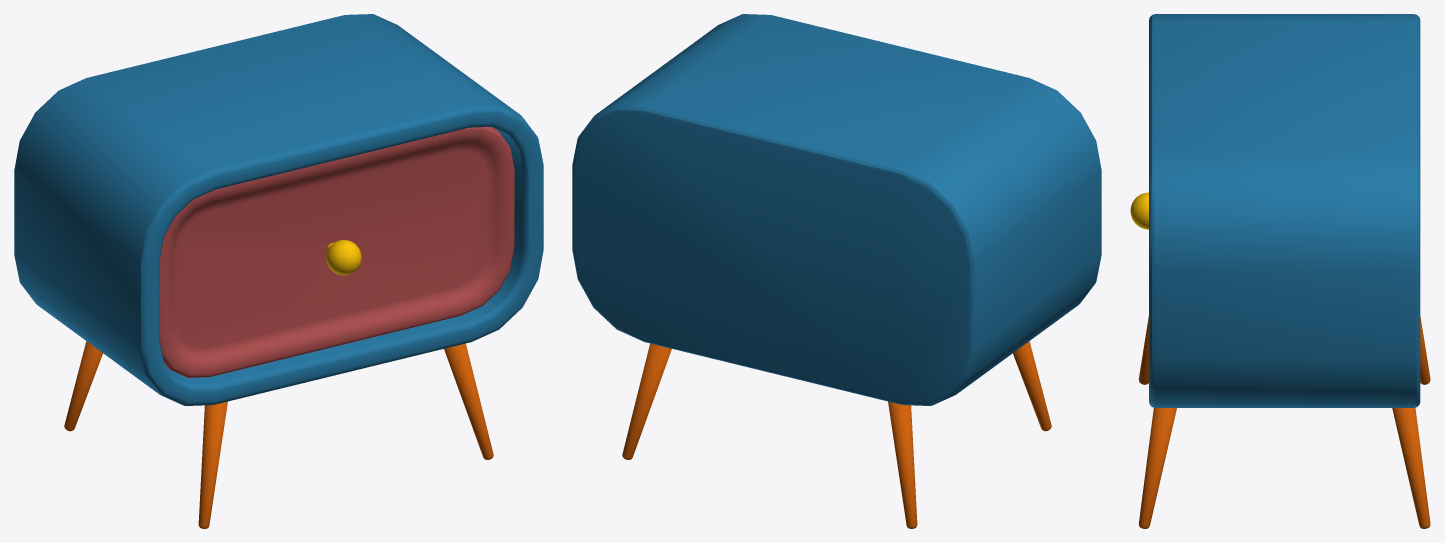
File: Nachttisch.fbx
The picture shows the model from 3 angles, left to right: view 1: azimuth 30°, elevation 25°; view 2: azimuth 150°, elevation 25°; view 3: azimuth 270°, elevation 25°; orthographic projection. The views are drawn at different scales.
Visible parts, largest first — view 1: Cylinder.001; view 2: Cylinder.001; view 3: Cylinder.001.
Boxes of the visible parts, x1,y1,x2,y2 form: Cylinder.001: (14,14,543,528); Cylinder.001: (572,14,1101,528); Cylinder.001: (1130,14,1430,528).
Bounding box in the file's own units: 94.21 × 78.54 × 58.01.
